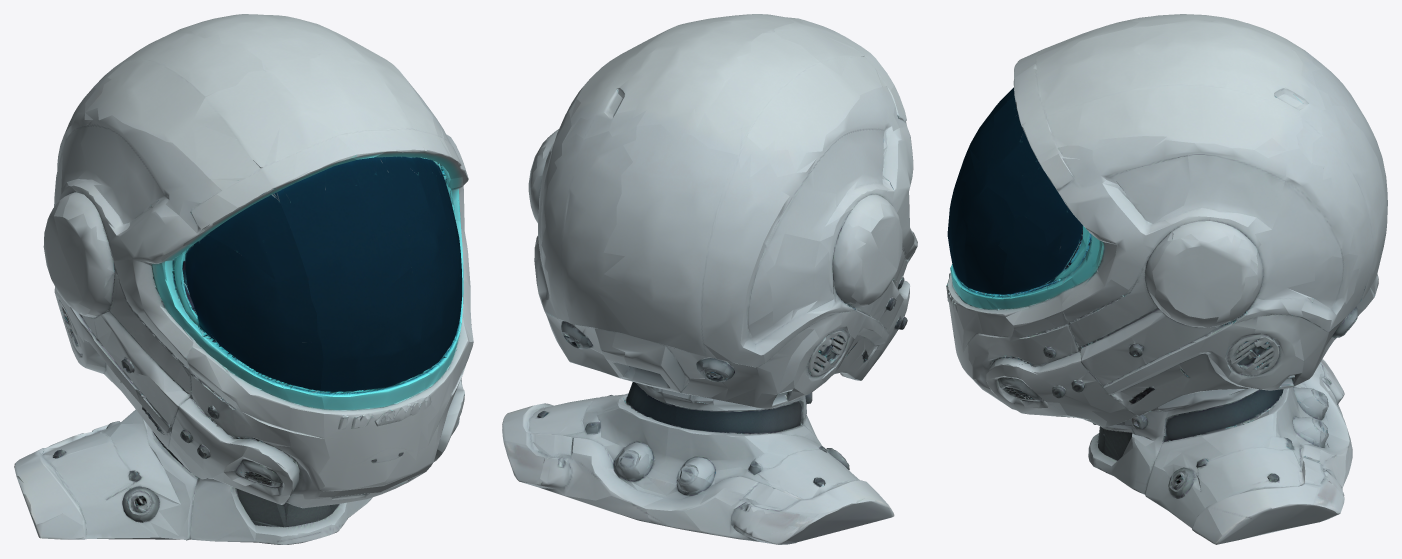
The model's file is kask.glb.
3 renders of one model, left to right at view 1: azimuth 30°, elevation 25°; view 2: azimuth 150°, elevation 25°; view 3: azimuth 270°, elevation 25°, orthographic. The views are drawn at different scales.
Bounding box in the file's own units: 1.74 × 1.9 × 1.79.
Materials: 1 (1 with a texture image).
